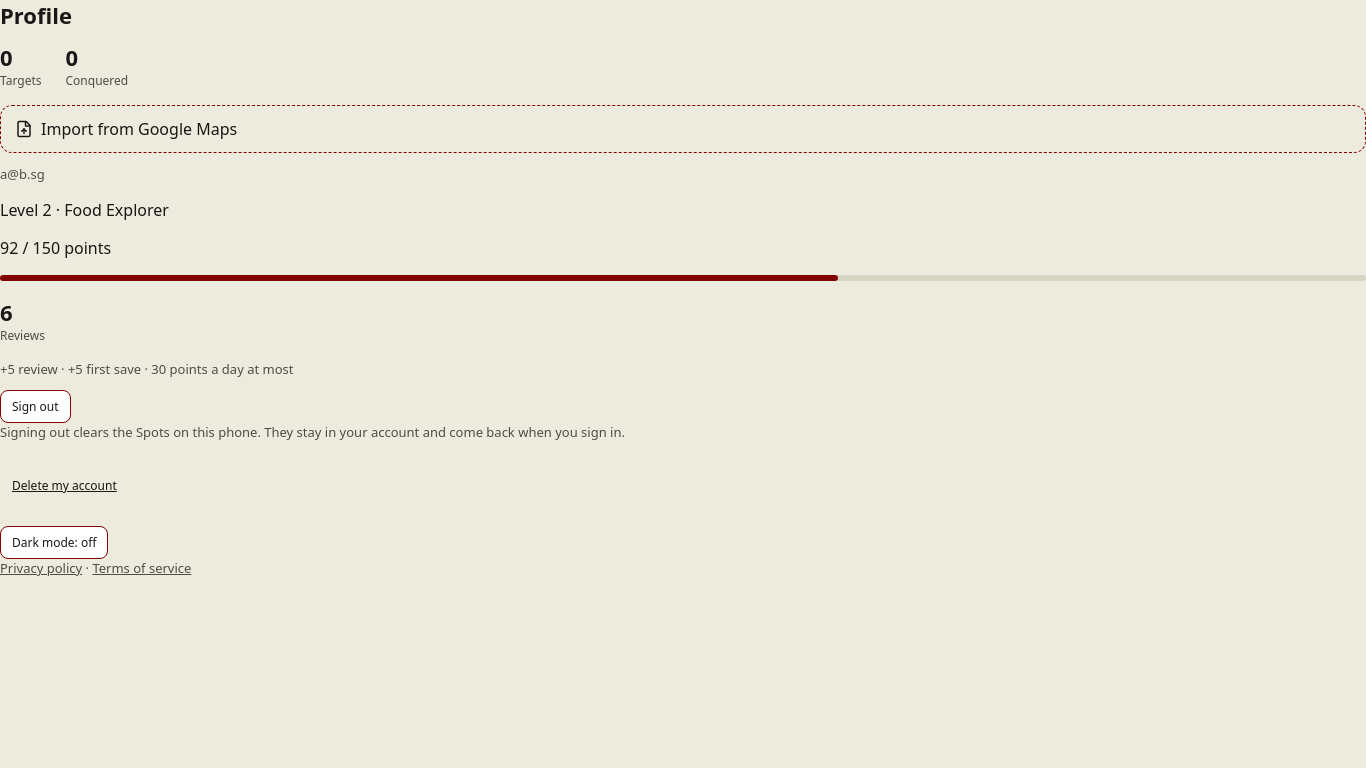
Test: deleting the account › pressing it asks for confirmation first and deletes nothing yet
Click the button "Delete my account".
click(64, 486)  # box [0,469,129,502]
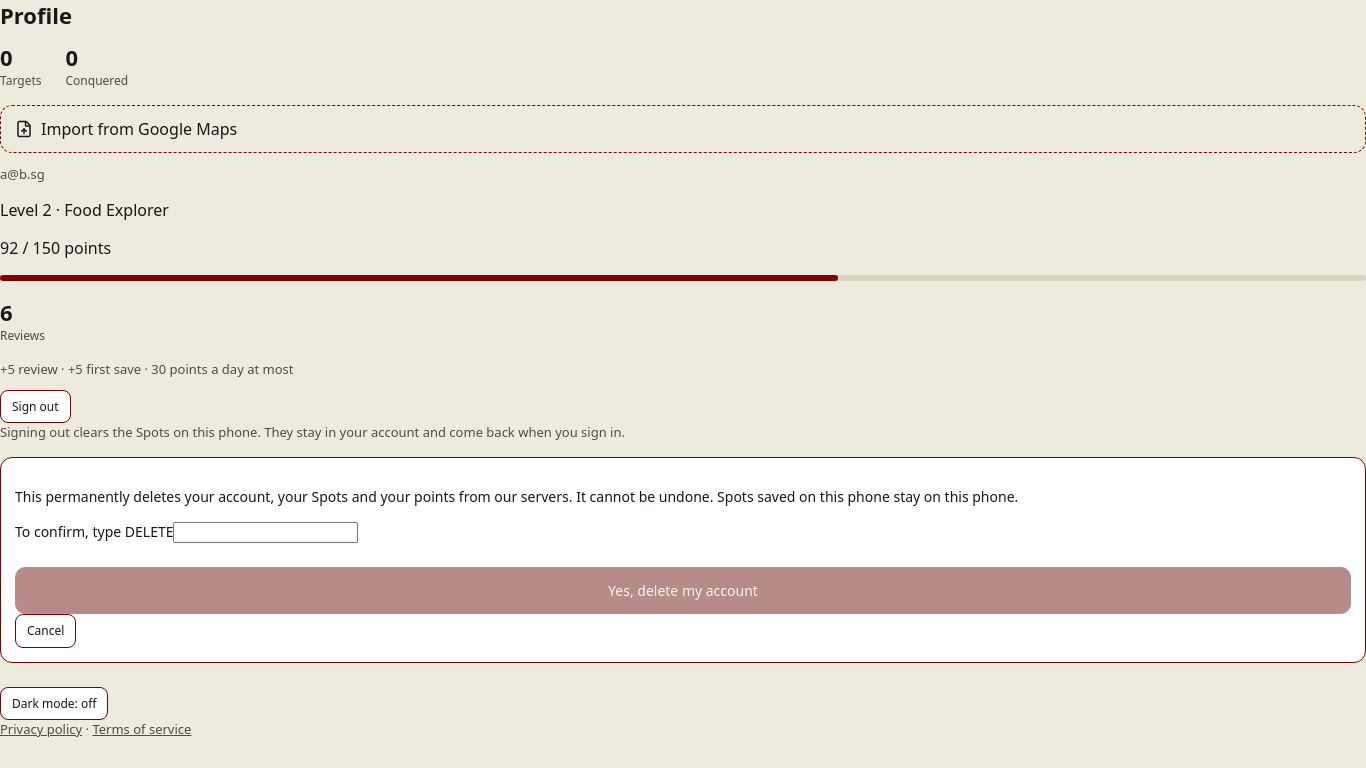
Now the dialog shows "cannot be undone", box [15,487,1018,506]
Now the dialog shows "stay on this phone", box [15,487,1018,506]
